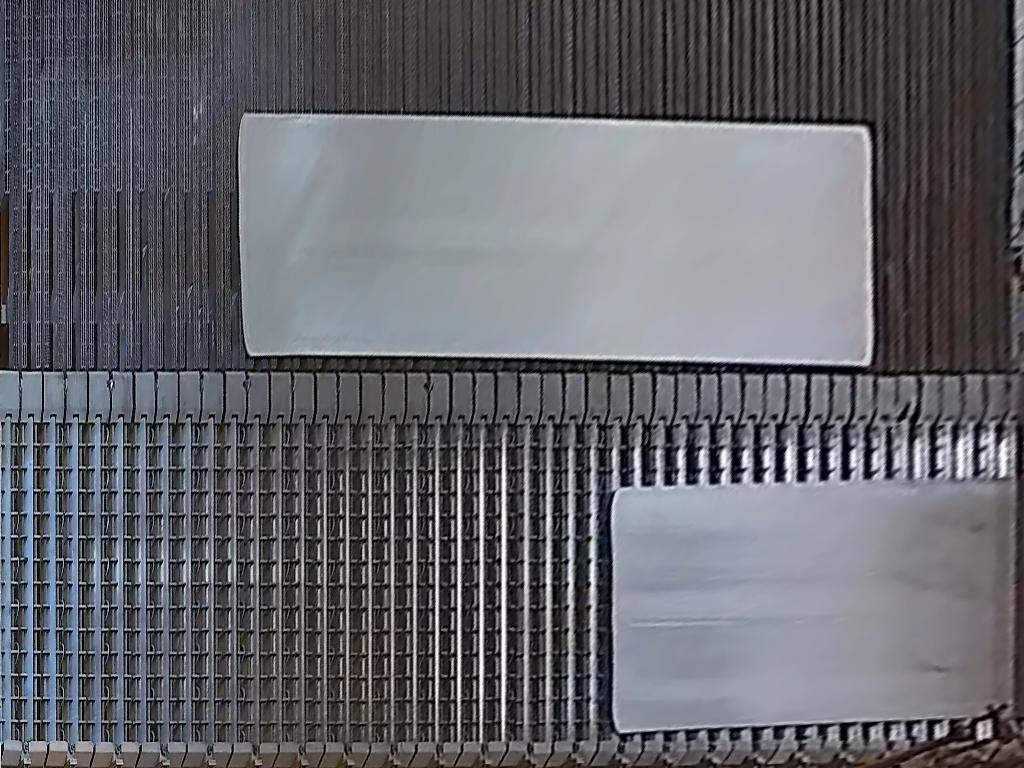steel: (236, 114, 875, 366), (609, 480, 1024, 733)
